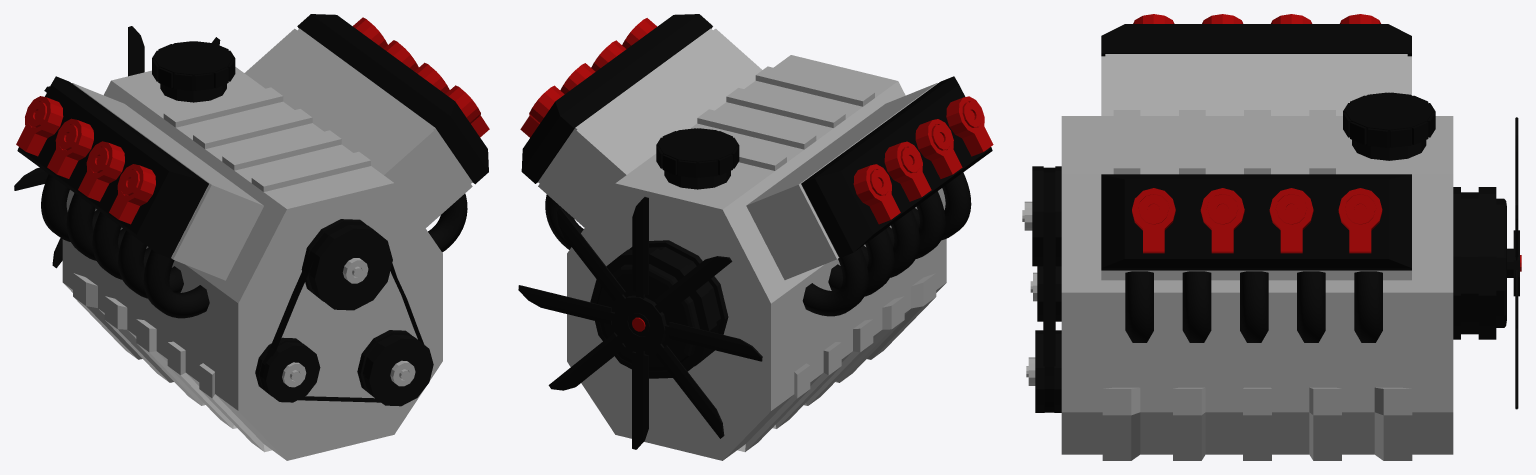
Rendered from crtengg.obj.
The picture shows the model from 3 angles, left to right: view 1: azimuth 30°, elevation 25°; view 2: azimuth 150°, elevation 25°; view 3: azimuth 270°, elevation 25°; orthographic projection. The views are drawn at different scales.
Parts seen in each view (by area): view 1: Cube, Cube.001, NurbsPath.001_Mesh, Cylinder.007, Cylinder.009, Cylinder.001, Cylinder.017_Cylinder.019, Cylinder.008, Cylinder.016_Cylinder.018, Cylinder.006, Cylinder.015_Cylinder.017, Cylinder.010 (+5 smaller); view 2: Cube, Cube.001, NurbsPath.001_Mesh, Cylinder.004, Cylinder.001, Cylinder.006, Cylinder.005, Cylinder.017_Cylinder.019, Cylinder.016_Cylinder.018, Cylinder.015_Cylinder.017, Cube.008, Cube.009 (+7 smaller); view 3: Cube, Cube.001, NurbsPath.001_Mesh, Cylinder.004, Cylinder.001, Cylinder.010, Cylinder.016_Cylinder.018, Cylinder.015_Cylinder.017, Cylinder.006, Cylinder.017_Cylinder.019, Cylinder.007, Cylinder.009 (+3 smaller).
Part boxes in pixels (x1,y1,x2,y2): Cube: (62, 67, 442, 460); Cube.001: (17, 14, 488, 280); NurbsPath.001_Mesh: (41, 174, 467, 318); Cylinder.007: (301, 219, 392, 310); Cylinder.009: (357, 330, 433, 406); Cylinder.001: (152, 41, 235, 90); Cylinder.017_Cylinder.019: (109, 85, 489, 224); Cylinder.008: (255, 337, 320, 402); Cylinder.016_Cylinder.018: (78, 62, 449, 201); Cylinder.006: (16, 17, 387, 156); Cylinder.015_Cylinder.017: (47, 40, 418, 178); Cylinder.010: (259, 222, 424, 402); Cube: (567, 55, 946, 460); Cube.001: (521, 14, 992, 279); NurbsPath.001_Mesh: (545, 172, 971, 316); Cylinder.004: (590, 240, 728, 378); Cylinder.001: (656, 128, 739, 177); Cylinder.006: (520, 85, 900, 224); Cylinder.005: (613, 295, 666, 351); Cylinder.017_Cylinder.019: (622, 18, 993, 156); Cylinder.016_Cylinder.018: (591, 40, 962, 178); Cylinder.015_Cylinder.017: (560, 63, 931, 201); Cube.008: (655, 343, 724, 438); Cube.009: (556, 208, 625, 302); Cube: (1061, 110, 1453, 460); Cube.001: (1101, 24, 1411, 280); NurbsPath.001_Mesh: (1125, 271, 1382, 342); Cylinder.004: (1453, 187, 1506, 339); Cylinder.001: (1343, 92, 1435, 147); Cylinder.010: (1043, 167, 1055, 412); Cylinder.016_Cylinder.018: (1200, 14, 1244, 253); Cylinder.015_Cylinder.017: (1269, 14, 1313, 253); Cylinder.006: (1338, 14, 1382, 253); Cylinder.017_Cylinder.019: (1132, 14, 1175, 253); Cylinder.007: (1032, 166, 1061, 266); Cylinder.009: (1035, 330, 1061, 412).
Size of the model in its own units: 4.91 by 3.73 by 5.14.
